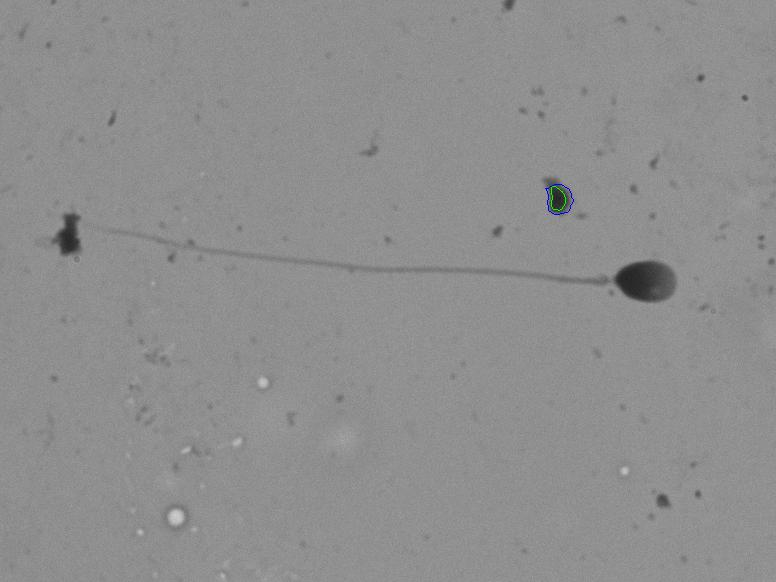Normal: (78, 213, 717, 362)
